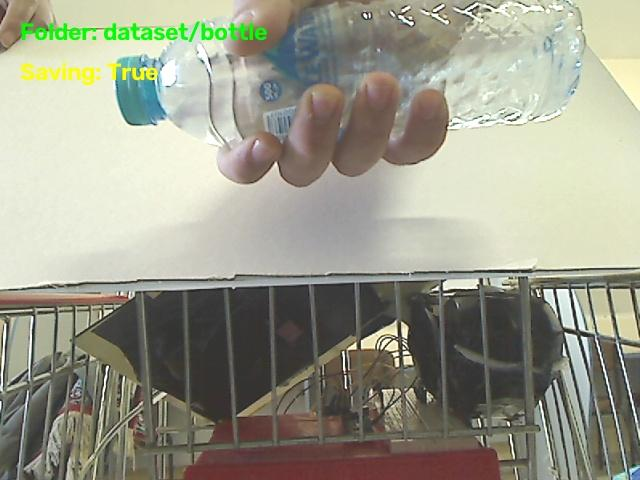Bottle: (113, 0, 584, 146), (0, 50, 348, 217)
